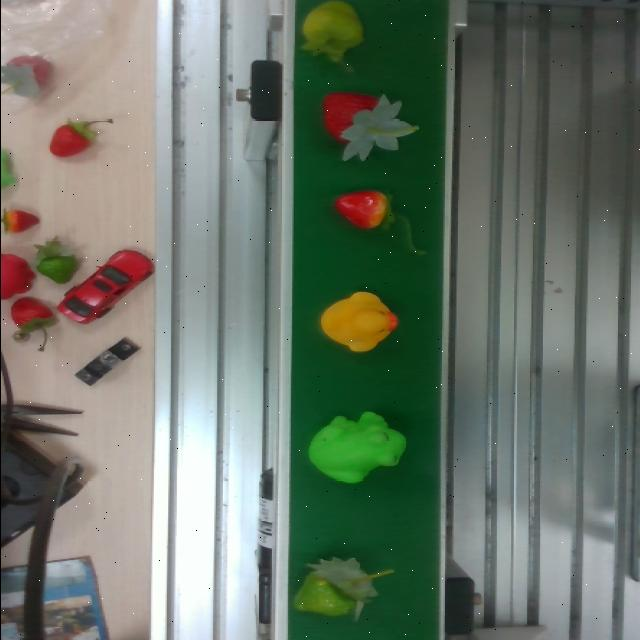None - Strawberry: (307, 409, 409, 491), (320, 285, 410, 364)
Small Ripe Strawberry: (318, 86, 408, 162)
Small Unripe Strawberry: (299, 548, 380, 622), (296, 0, 372, 76), (331, 186, 403, 232)
conveyor: (273, 0, 462, 640)
